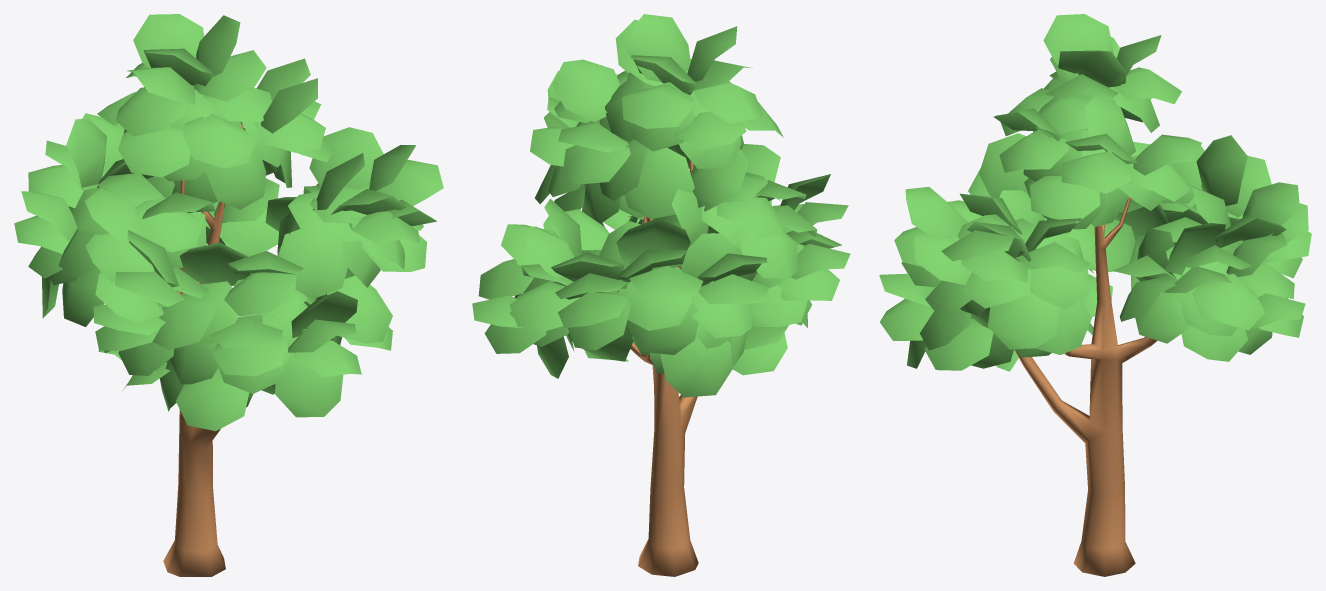
The model's file is Tree.fbx.
3 renders of one model, left to right at view 1: azimuth 30°, elevation 25°; view 2: azimuth 150°, elevation 25°; view 3: azimuth 270°, elevation 25°, orthographic. The views are drawn at different scales.
Parts seen in each view (by area): view 1: leaves, bark; view 2: leaves, bark; view 3: leaves, bark.
Part boxes in pixels (left/top/right/bottom): leaves: left=14, top=14, right=443, bottom=431; bark: left=163, top=124, right=243, bottom=576; leaves: left=472, top=14, right=850, bottom=397; bark: left=630, top=160, right=698, bottom=576; leaves: left=879, top=14, right=1311, bottom=371; bark: left=1014, top=197, right=1156, bottom=576.
Bounding box in the file's own units: 5.36 × 8.7 × 6.45.
